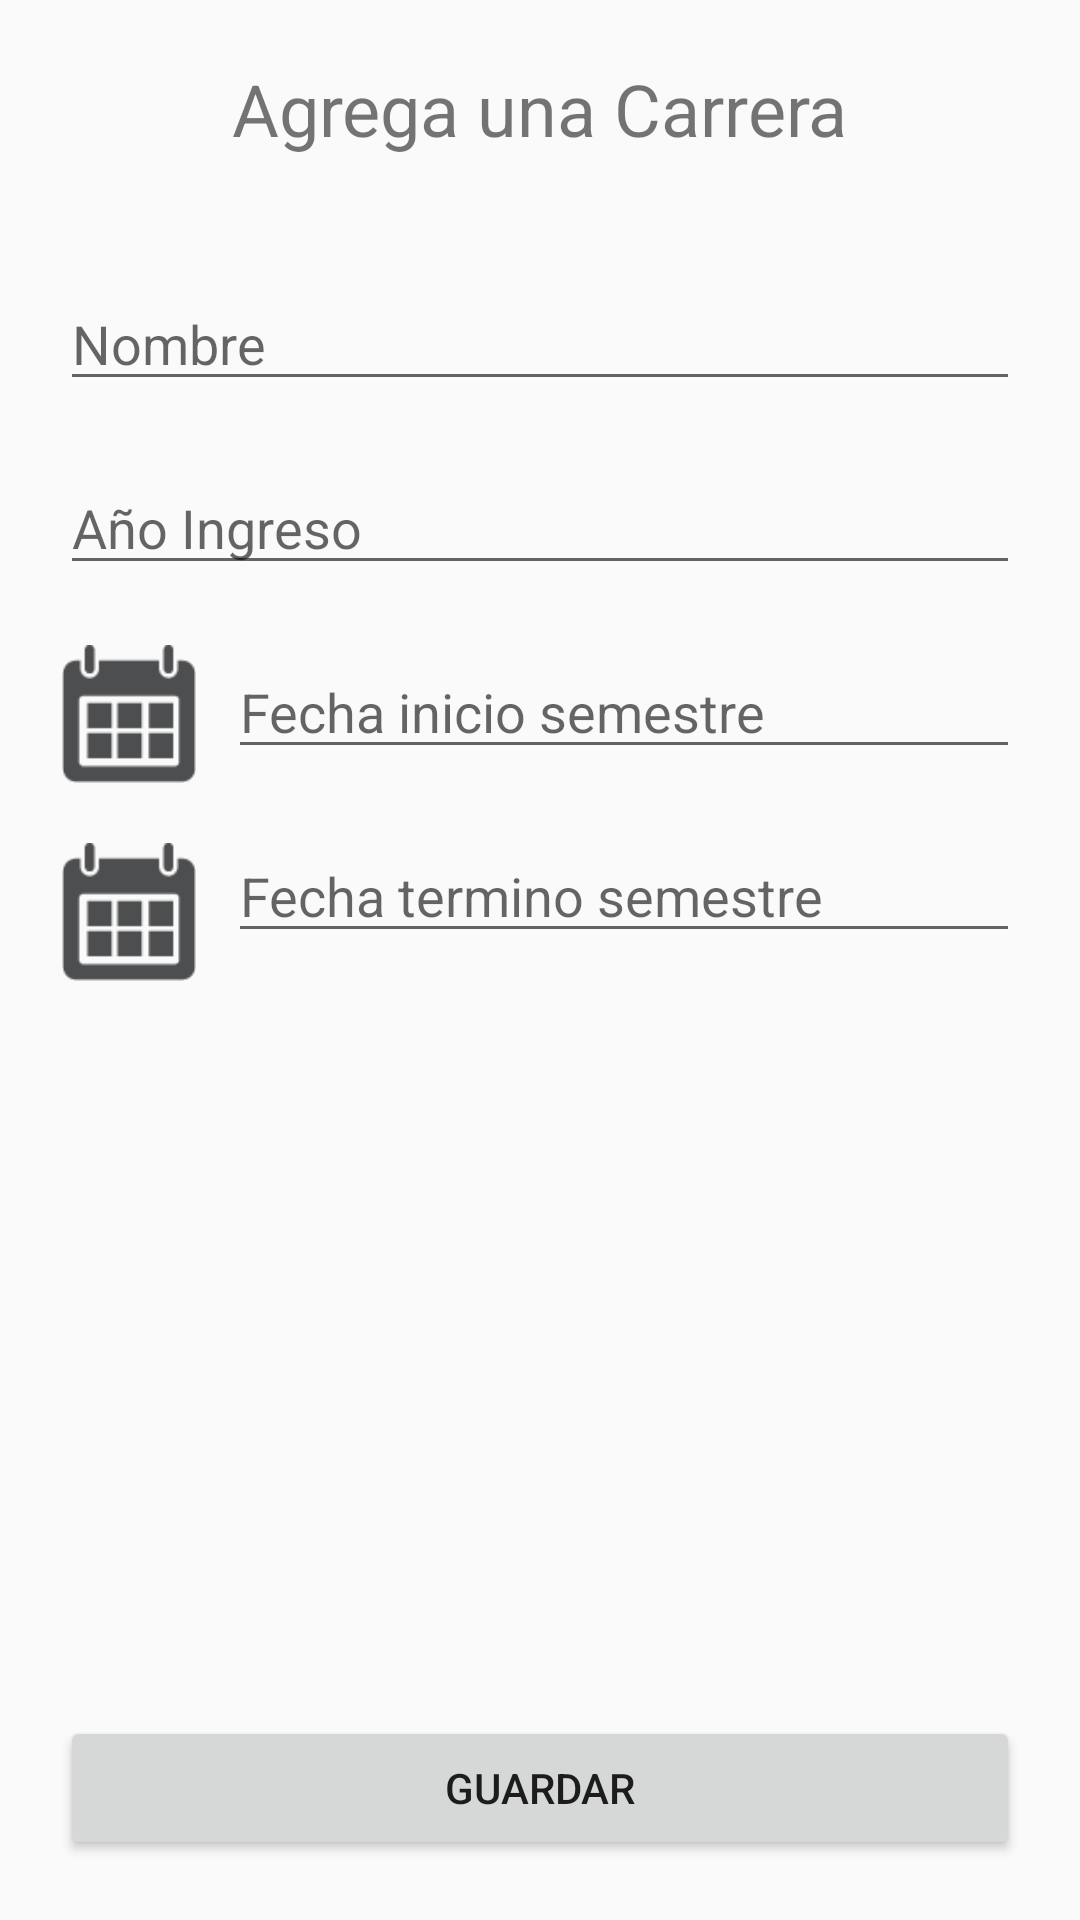

Icons on this 1080px x 1920px Android screen, each with the point to tap as (x=x, y=y):
calendar: (x=129, y=714), (x=129, y=912)
